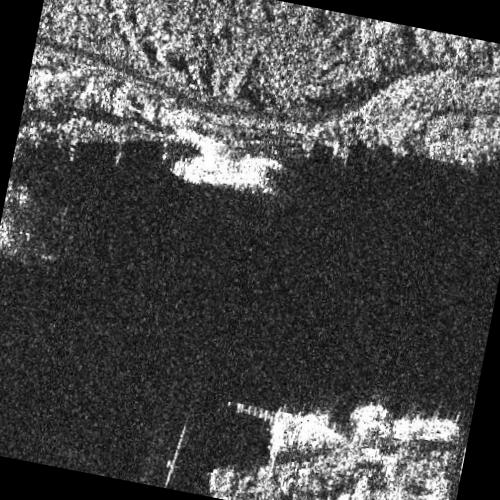ship: (168, 154, 278, 189), (349, 405, 389, 425)
